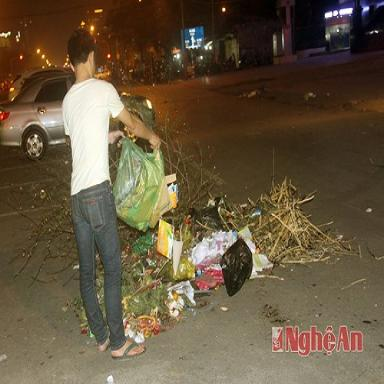plasticbag: (123, 228, 295, 337), (110, 126, 168, 235), (220, 236, 252, 295)
